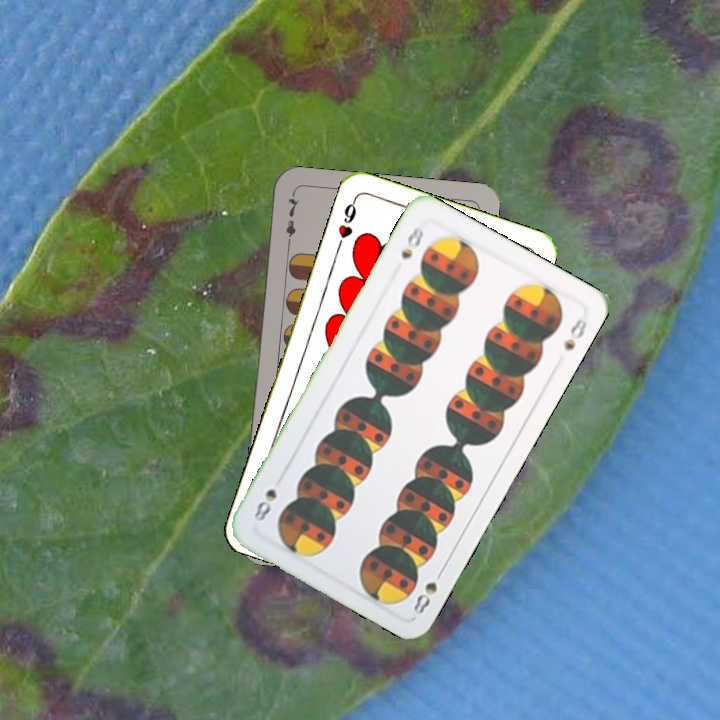E7: (281, 191, 302, 250)
H9: (332, 195, 359, 252)
S8: (409, 563, 447, 617), (396, 222, 427, 262)
